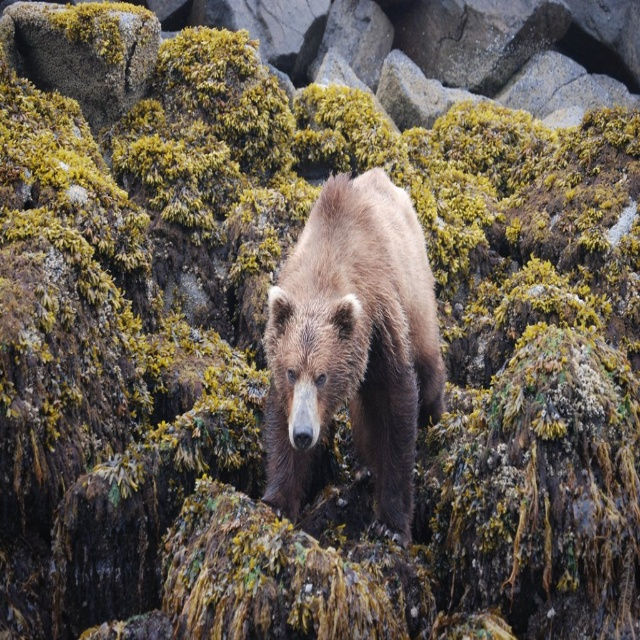Brown bear: (259, 169, 445, 547)
